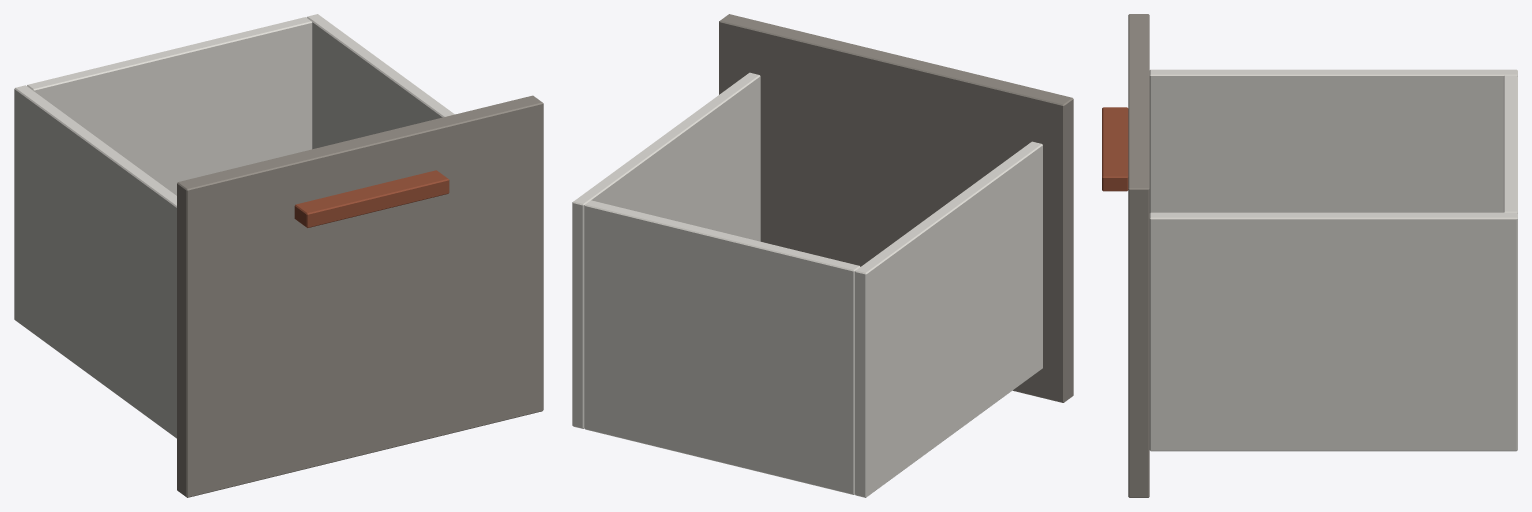
The model's file is low_cabinet_two_drawers_right_drawer.glb.
3 renders of one model, left to right at view 1: azimuth 30°, elevation 25°; view 2: azimuth 150°, elevation 25°; view 3: azimuth 270°, elevation 25°, orthographic. The views are drawn at different scales.
Visible parts, largest first — view 1: low_cabinet_two_drawers_right_drawer.001; view 2: low_cabinet_two_drawers_right_drawer.001; view 3: low_cabinet_two_drawers_right_drawer.001.
Part boxes in pixels (x1,y1,x2,y2): low_cabinet_two_drawers_right_drawer.001: (14,14,543,497); low_cabinet_two_drawers_right_drawer.001: (572,14,1073,497); low_cabinet_two_drawers_right_drawer.001: (1102,14,1517,497).
Bounding box in the file's own units: 0.3485 × 0.288 × 0.35.
